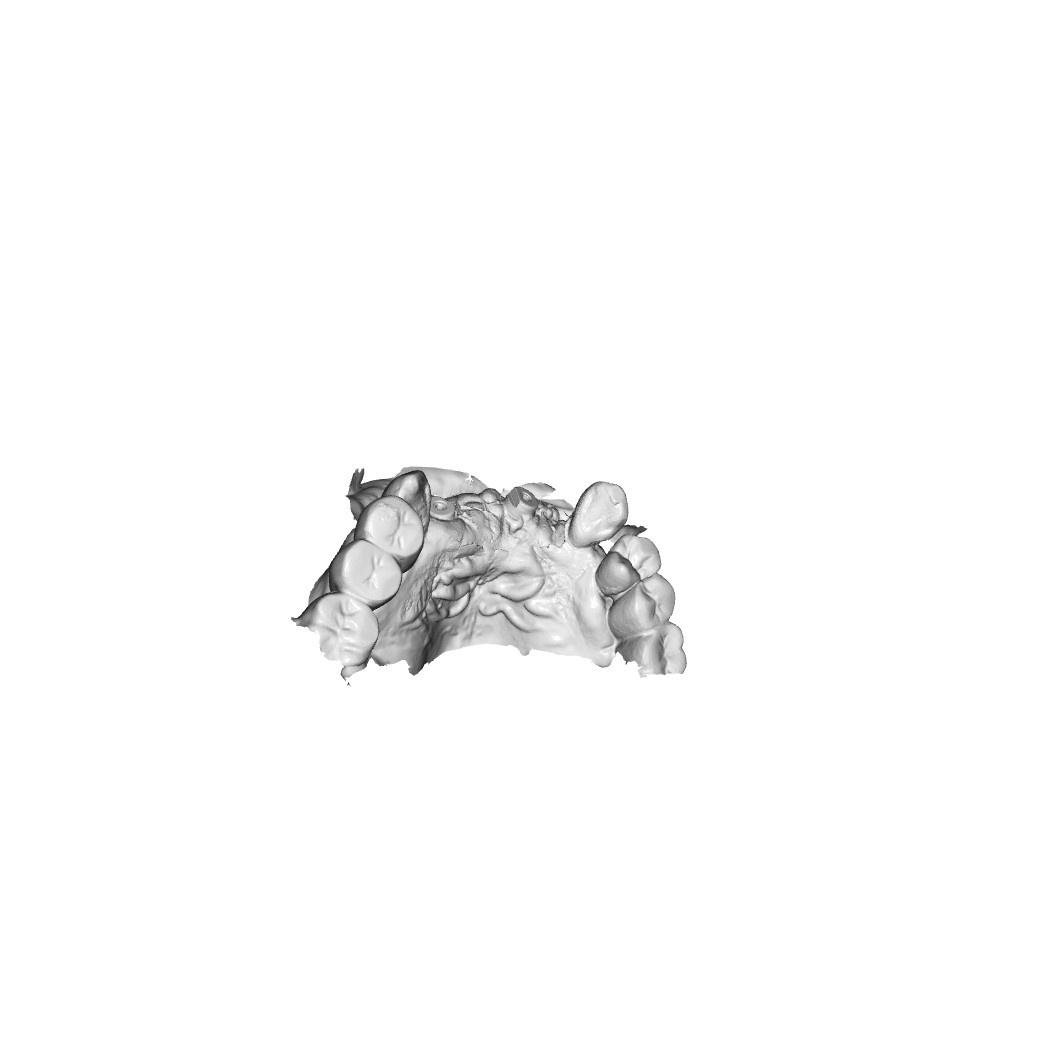canine: (570, 478, 629, 551)
implant: (497, 477, 541, 523), (426, 489, 463, 524)
premolar: (327, 540, 408, 610), (610, 574, 679, 642), (352, 494, 422, 560), (602, 528, 656, 595)
